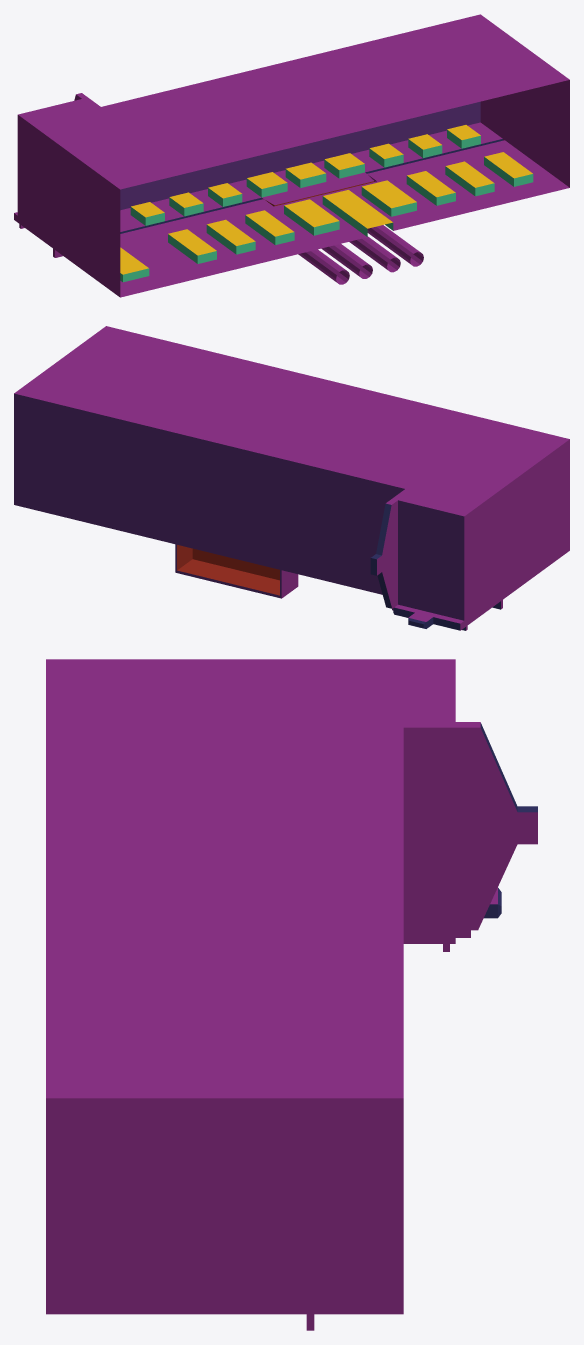
Rendered from Willa Włodzimierza KluczyckiegoV2.fbx.
3 renders of one model, top to bottom at view 1: azimuth 30°, elevation 25°; view 2: azimuth 150°, elevation 25°; view 3: azimuth 270°, elevation 25°, orthographic. The views are drawn at different scales.
Parts seen in each view (by area): view 1: willa_wlodzimierza_kulczyckiego; view 2: willa_wlodzimierza_kulczyckiego; view 3: willa_wlodzimierza_kulczyckiego.
Boxes of the visible parts, x1,y1,x2,y2 form: willa_wlodzimierza_kulczyckiego: (14,14,569,297); willa_wlodzimierza_kulczyckiego: (14,326,569,630); willa_wlodzimierza_kulczyckiego: (46,659,537,1330).
Size of the model in its own units: 3.78 by 1.25 by 1.79.
